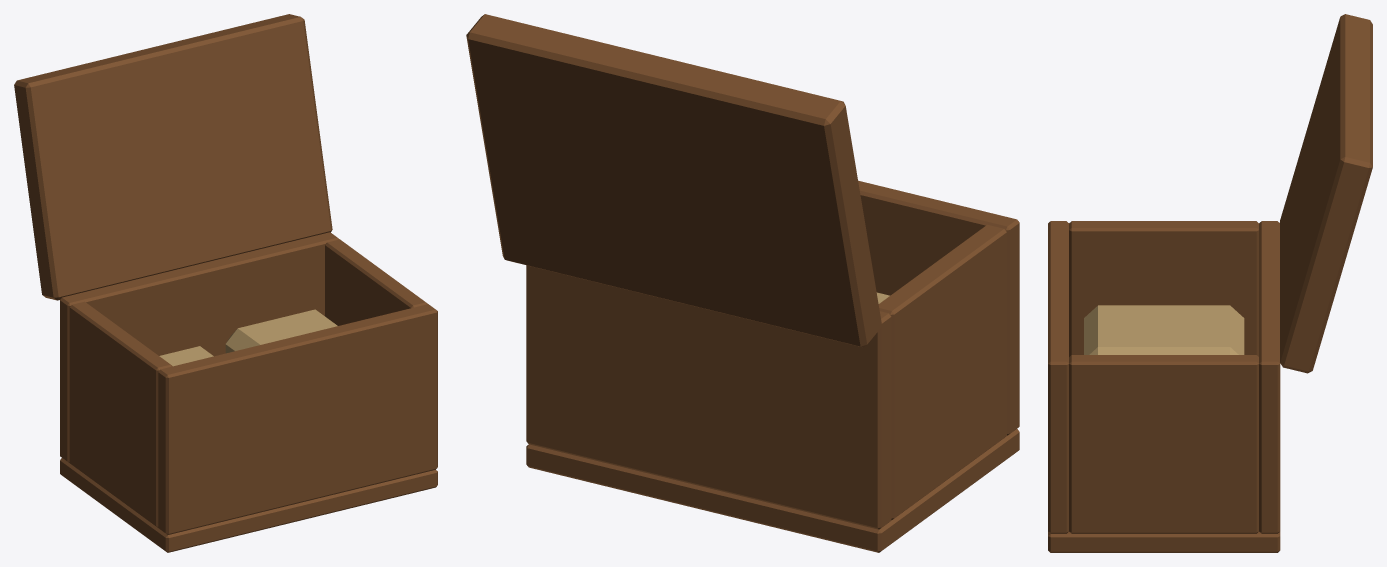
File: Prop_Ash_SeedCache_Open_LOD1.glb
3 renders of one model, left to right at view 1: azimuth 30°, elevation 25°; view 2: azimuth 150°, elevation 25°; view 3: azimuth 270°, elevation 25°, orthographic. The views are drawn at different scales.
Visible parts, largest first — view 1: Prop_Ash_SeedCache_Open, Prop_Ash_SeedCache_Open_Lid; view 2: Prop_Ash_SeedCache_Open, Prop_Ash_SeedCache_Open_Lid; view 3: Prop_Ash_SeedCache_Open, Prop_Ash_SeedCache_Open_Lid.
Part boxes in pixels (left/top/right/bottom): Prop_Ash_SeedCache_Open: left=60, top=232, right=437, bottom=552; Prop_Ash_SeedCache_Open_Lid: left=14, top=14, right=332, bottom=300; Prop_Ash_SeedCache_Open: left=526, top=180, right=1019, bottom=552; Prop_Ash_SeedCache_Open_Lid: left=466, top=14, right=882, bottom=347; Prop_Ash_SeedCache_Open: left=1048, top=221, right=1280, bottom=552; Prop_Ash_SeedCache_Open_Lid: left=1280, top=14, right=1372, bottom=373.
Size of the model in its own units: 0.82 by 1.04 by 0.7697.
